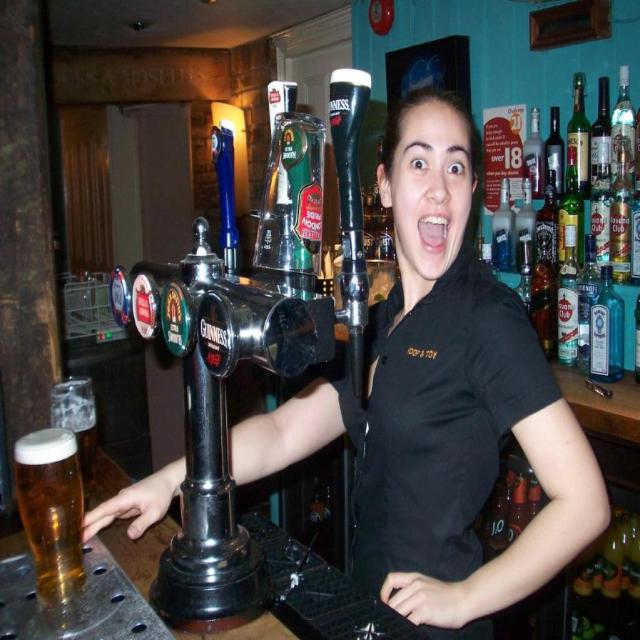no_helmet: (360, 132, 502, 296)
